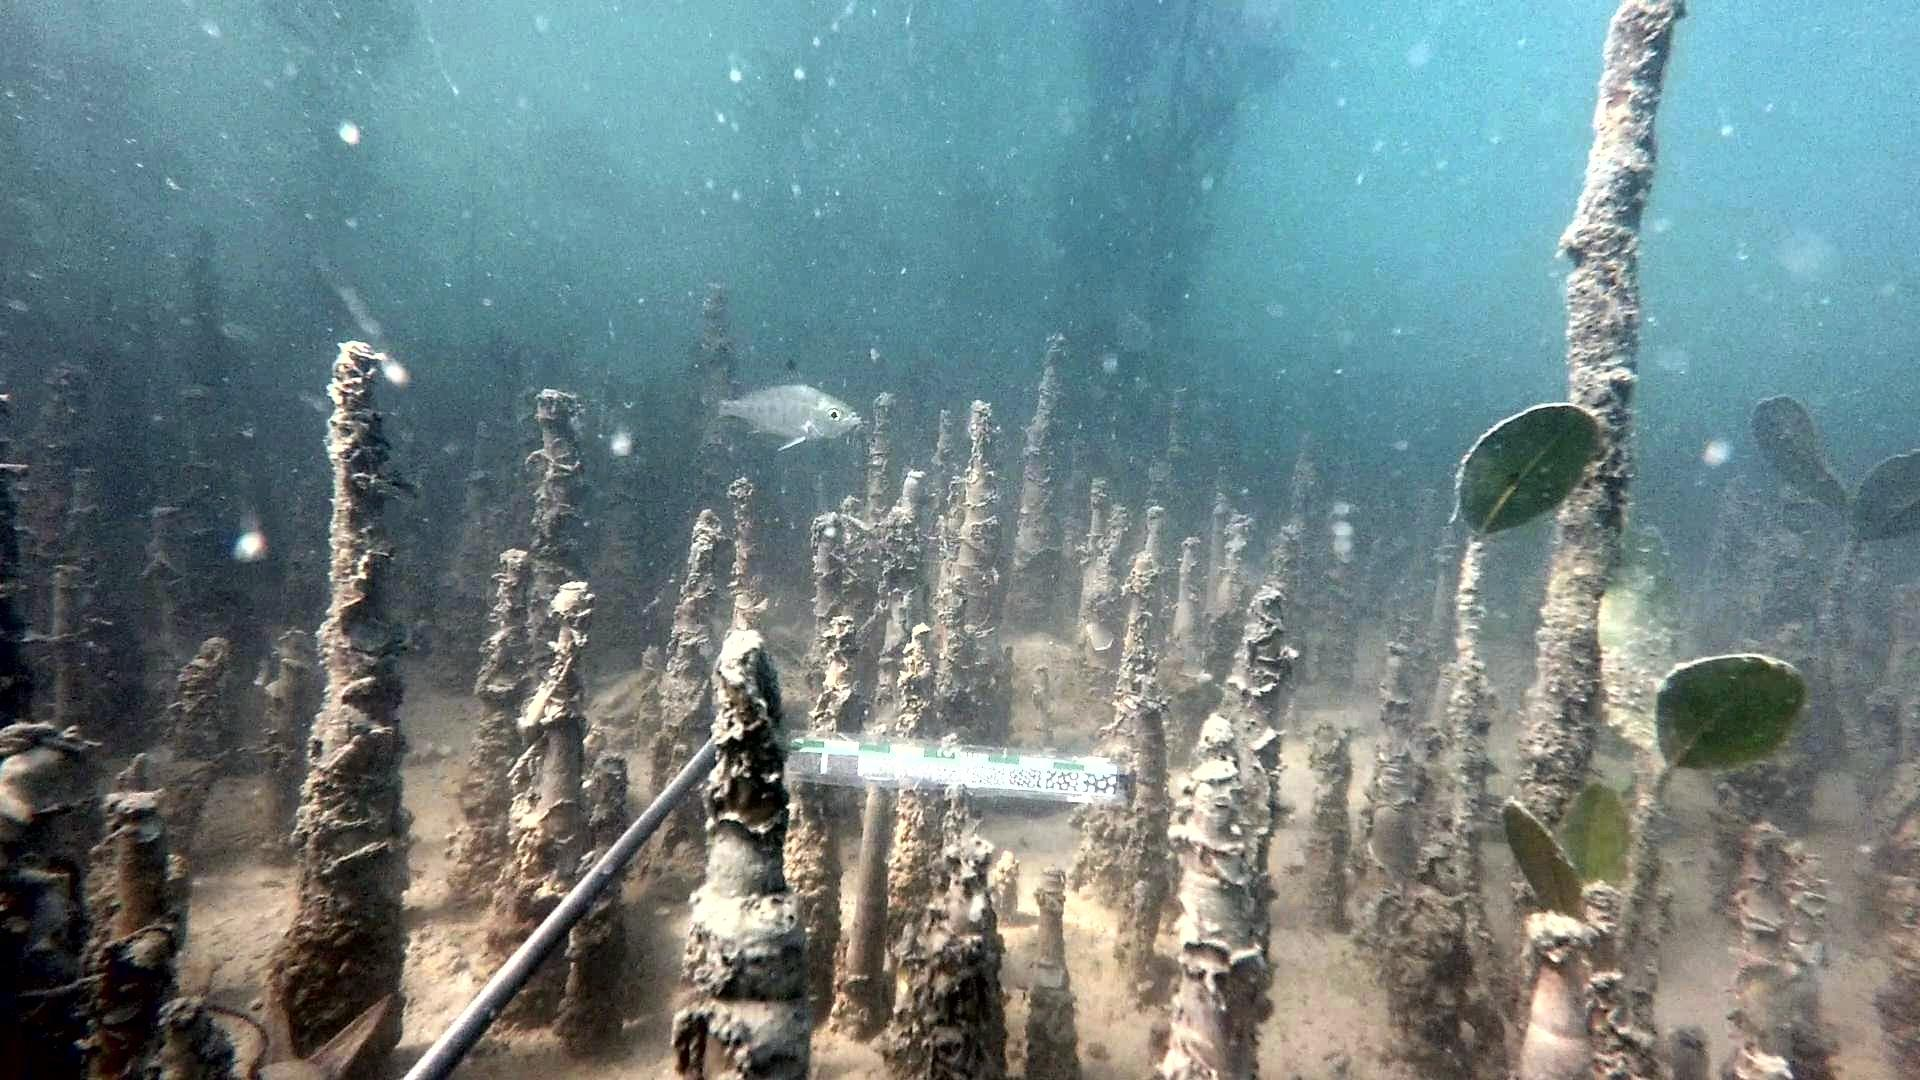gerres: (684, 358, 866, 453)
